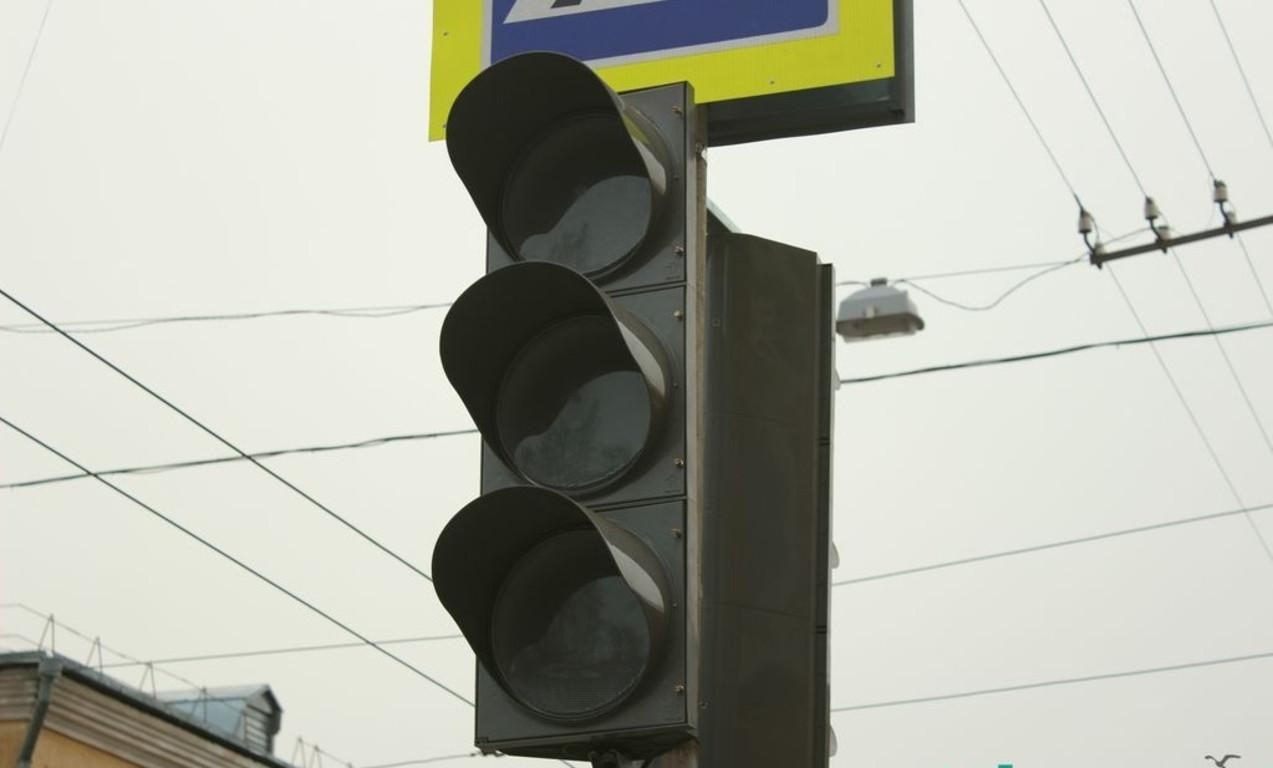obstructed_road_sign: (431, 0, 898, 139)
off traffic light: (424, 50, 690, 743)
